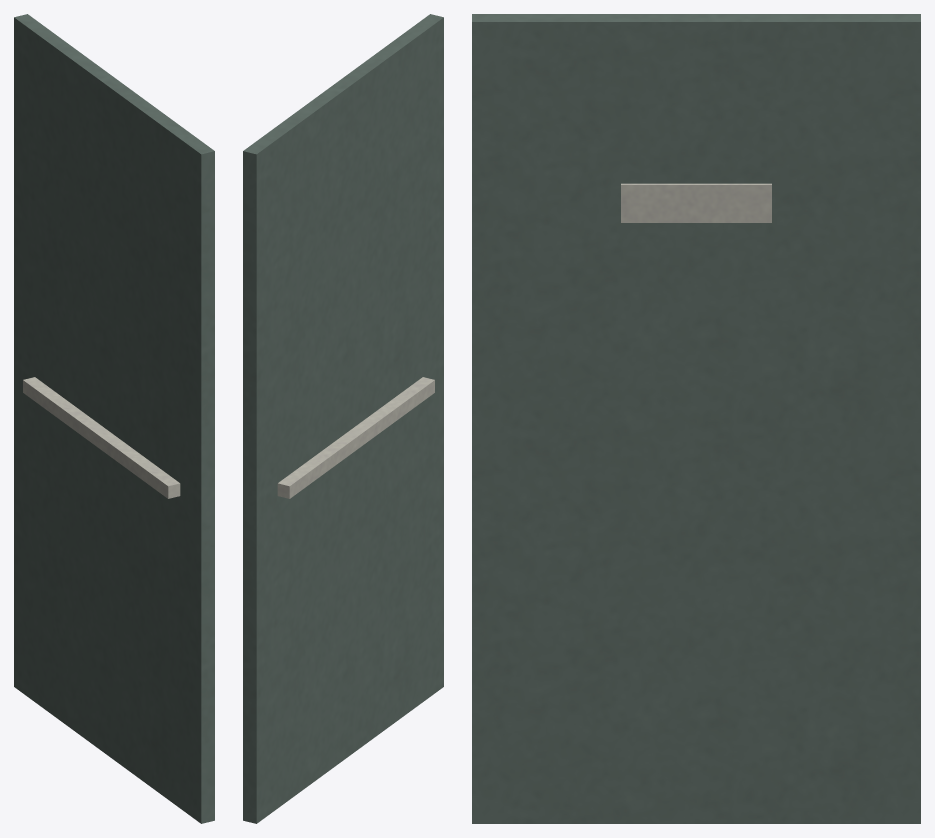
File: SM_L0_ServiceDoor_Leaf.fbx
3 renders of one model, left to right at view 1: azimuth 30°, elevation 25°; view 2: azimuth 150°, elevation 25°; view 3: azimuth 270°, elevation 25°, orthographic. The views are drawn at different scales.
Visible parts, largest first — view 1: SM_L0_ServiceDoor_Leaf; view 2: SM_L0_ServiceDoor_Leaf; view 3: SM_L0_ServiceDoor_Leaf.
Boxes of the visible parts, <box> form: SM_L0_ServiceDoor_Leaf: <box>14,14,214,823</box>; SM_L0_ServiceDoor_Leaf: <box>243,14,443,823</box>; SM_L0_ServiceDoor_Leaf: <box>472,14,920,823</box>.
Size of what is drawn, in the model's own units: 0.093 by 2.11 by 1.07.
